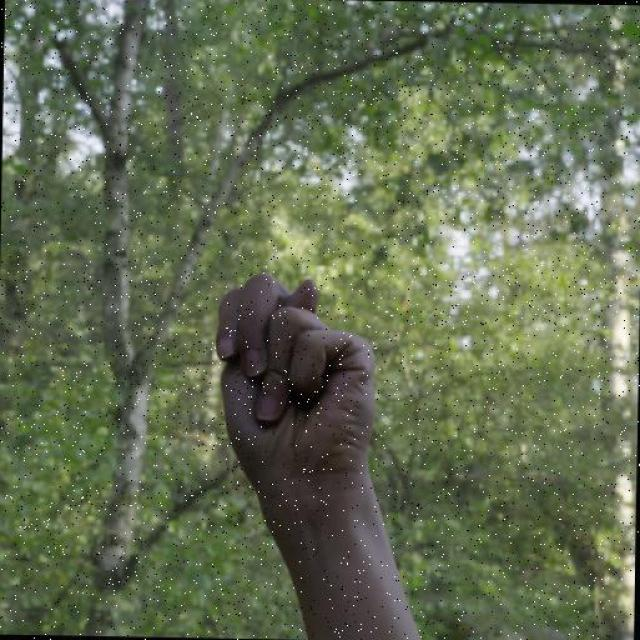N: (203, 263, 400, 548)
